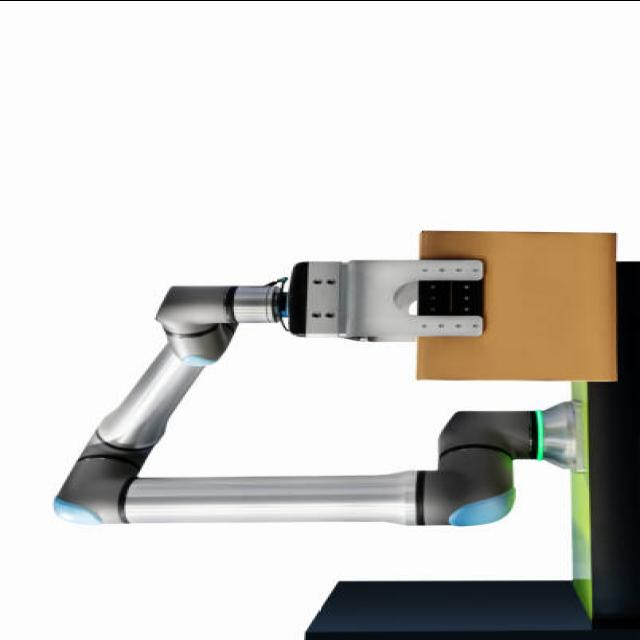Robotic-arm: (44, 253, 564, 528)
